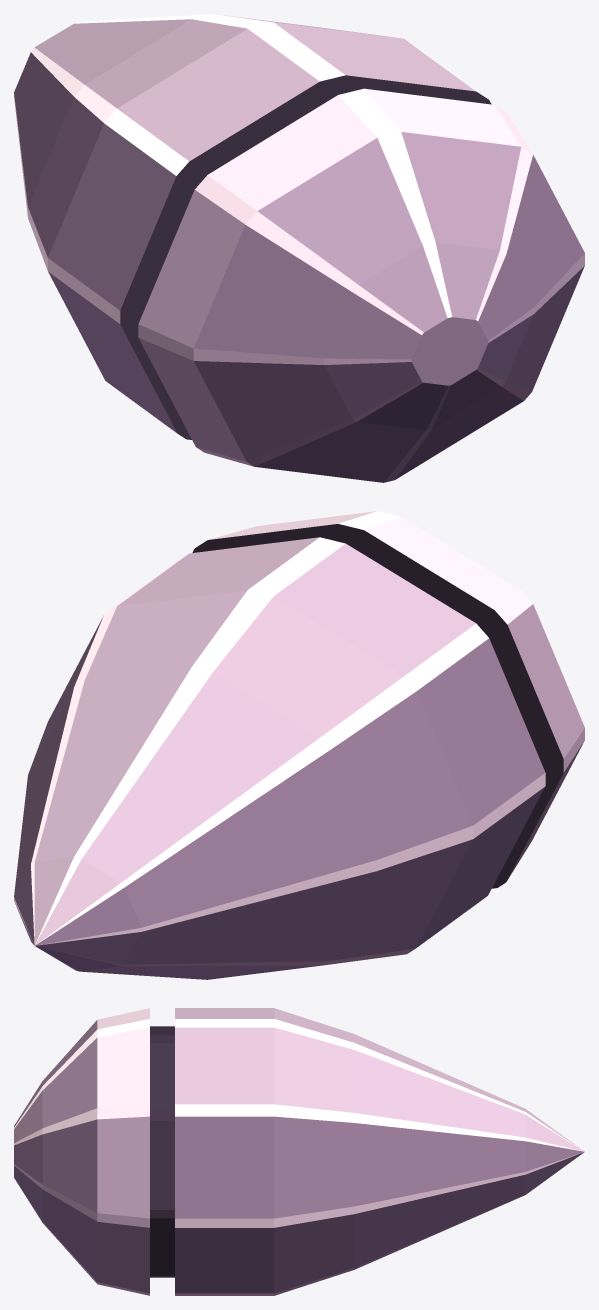
Rendered from shard_yellow.glb.
3 views of the same model, one above another, from view 1: azimuth 30°, elevation 25°; view 2: azimuth 150°, elevation 25°; view 3: azimuth 270°, elevation 25° (orthographic). The views are drawn at different scales.
Parts seen in each view (by area): view 1: shard; view 2: shard; view 3: shard.
Boxes of the visible parts, left/top/right/bottom form: shard: left=14, top=14, right=584, bottom=482; shard: left=14, top=511, right=584, bottom=979; shard: left=14, top=1008, right=584, bottom=1295.
Size of the model in its own units: 14.78 by 12.52 by 25.
